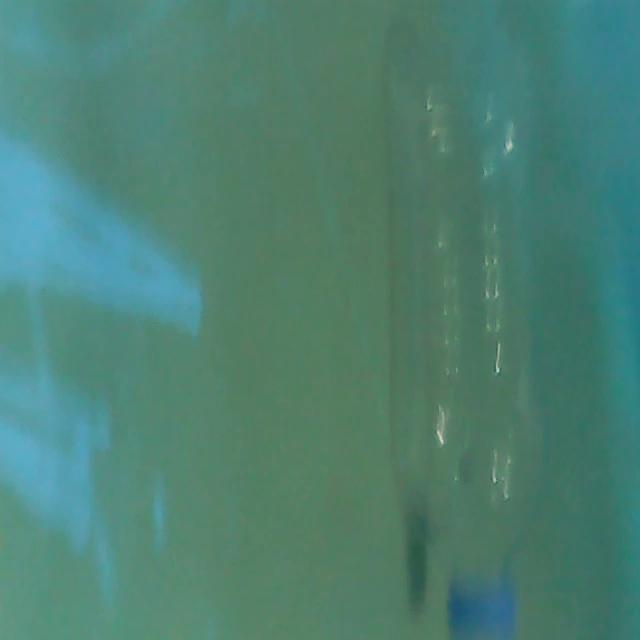plastic bottle: (376, 3, 566, 640)
